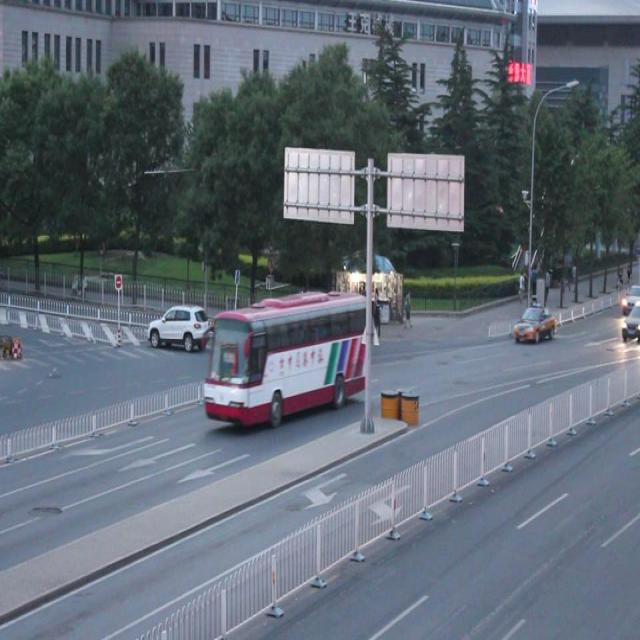car: (149, 307, 215, 358), (514, 301, 556, 341), (617, 304, 640, 342), (619, 281, 640, 308)
van: (205, 289, 371, 422)
